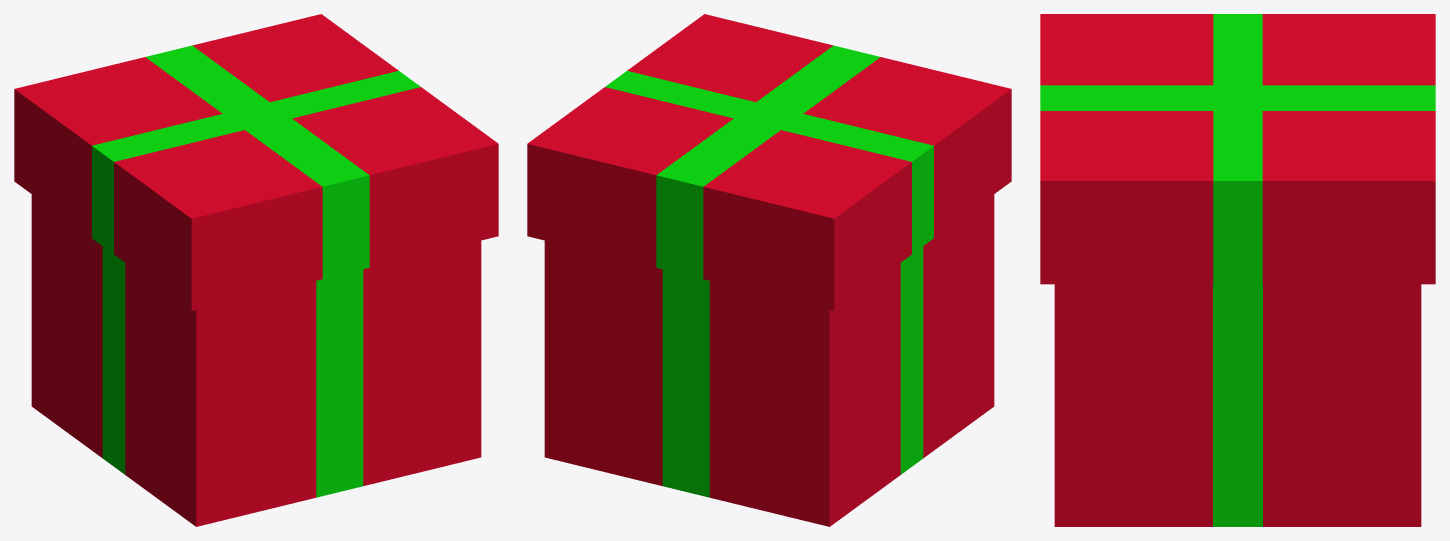
The model's file is gift.fbx.
The picture shows the model from 3 angles, left to right: view 1: azimuth 30°, elevation 25°; view 2: azimuth 150°, elevation 25°; view 3: azimuth 270°, elevation 25°; orthographic projection. The views are drawn at different scales.
Visible parts, largest first — view 1: Cube.001, Cube; view 2: Cube.001, Cube; view 3: Cube.001, Cube.
Part boxes in pixels (x1,y1,x2,y2): Cube.001: (14,14,498,310); Cube: (31,194,481,526); Cube.001: (527,14,1011,310); Cube: (544,194,994,526); Cube.001: (1040,14,1435,284); Cube: (1054,284,1421,526).
Bounding box in the file's own units: 216 × 212 × 216.
